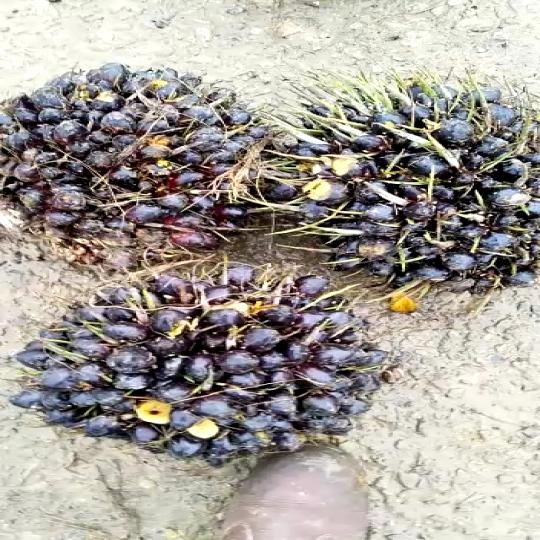mentah: (46, 255, 384, 470), (285, 76, 540, 294), (14, 56, 264, 278)
